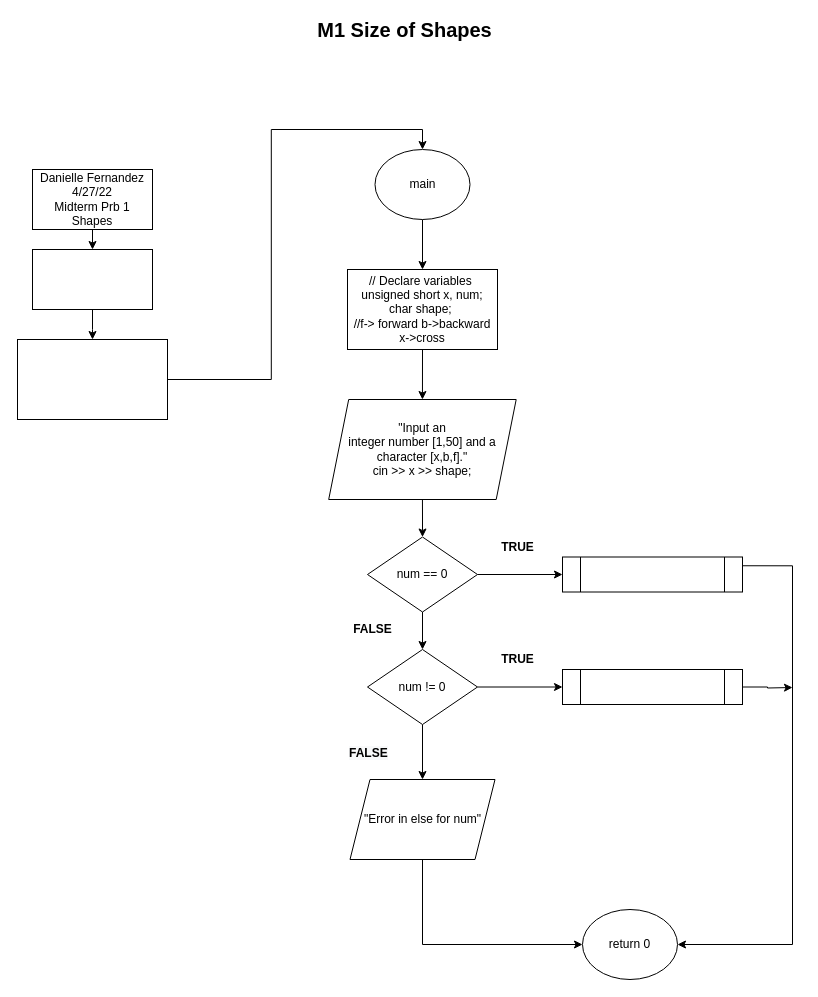
The diagram is 818 pixels wide and 997 high, and some of its shapes have lost their labels. Each missing label, with the centre of its shape:
#include iostream iomanip, cstring: point (92, 279)
Function Prototypes void oddsLoop(int, char); void evensLoop(int, char);: point (92, 379)
void evensLoop(x, shape);: point (652, 574)
void oddsLoop(x, shape);: point (652, 686)
